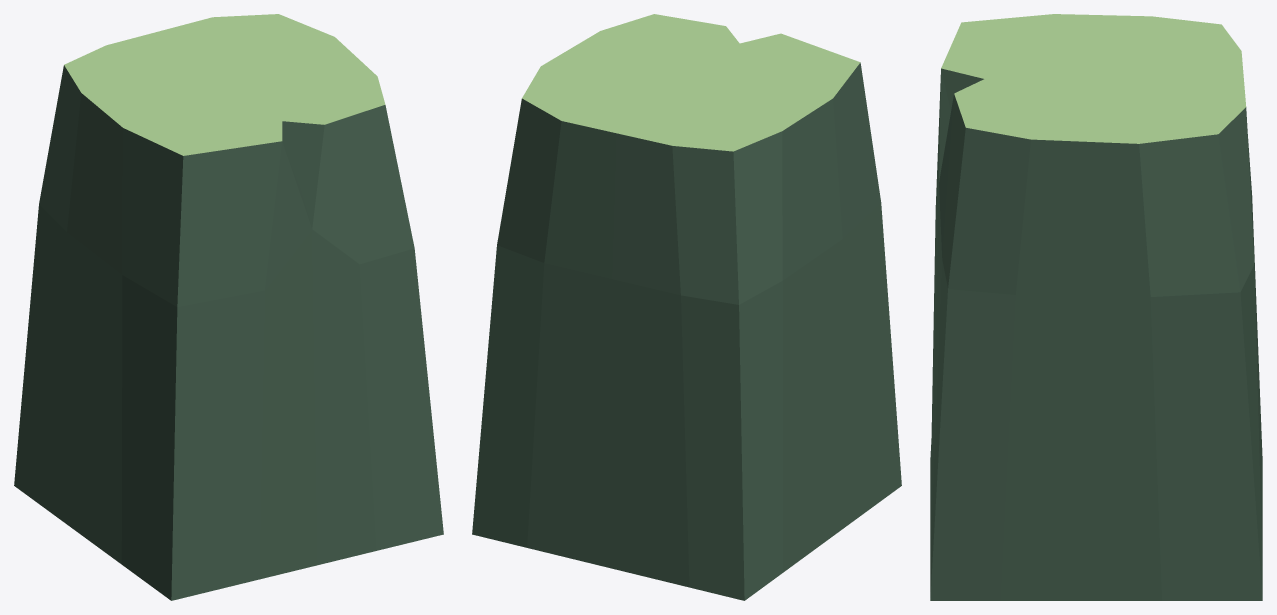
Rendered from Island04.fbx.
3 renders of one model, left to right at view 1: azimuth 30°, elevation 25°; view 2: azimuth 150°, elevation 25°; view 3: azimuth 270°, elevation 25°, orthographic. The views are drawn at different scales.
Visible parts, largest first — view 1: Plane.001; view 2: Plane.001; view 3: Plane.001.
Boxes of the visible parts, x1,y1,x2,y2 form: Plane.001: [14, 14, 443, 600]; Plane.001: [472, 14, 901, 600]; Plane.001: [930, 14, 1262, 600].
Bounding box in the file's own units: 100 × 150 × 100.
